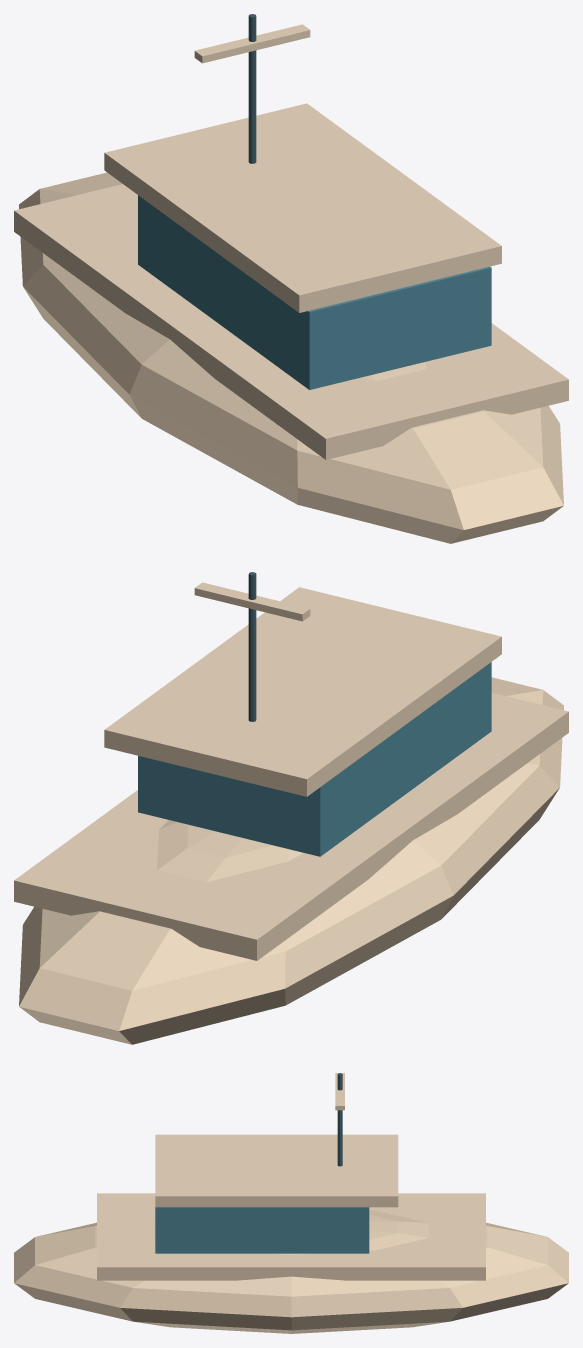
The model's file is yacht.obj.
3 views of the same model, one above another, from view 1: azimuth 30°, elevation 25°; view 2: azimuth 150°, elevation 25°; view 3: azimuth 270°, elevation 25° (orthographic). The views are drawn at different scales.
Parts seen in each view (by area): view 1: yacht; view 2: yacht; view 3: yacht.
Boxes of the visible parts, x1,y1,x2,y2 form: yacht: (14,14,568,543); yacht: (14,572,568,1044); yacht: (14,1073,568,1333).
Bounding box in the file's own units: 4.8 × 5.4 × 11.41.
